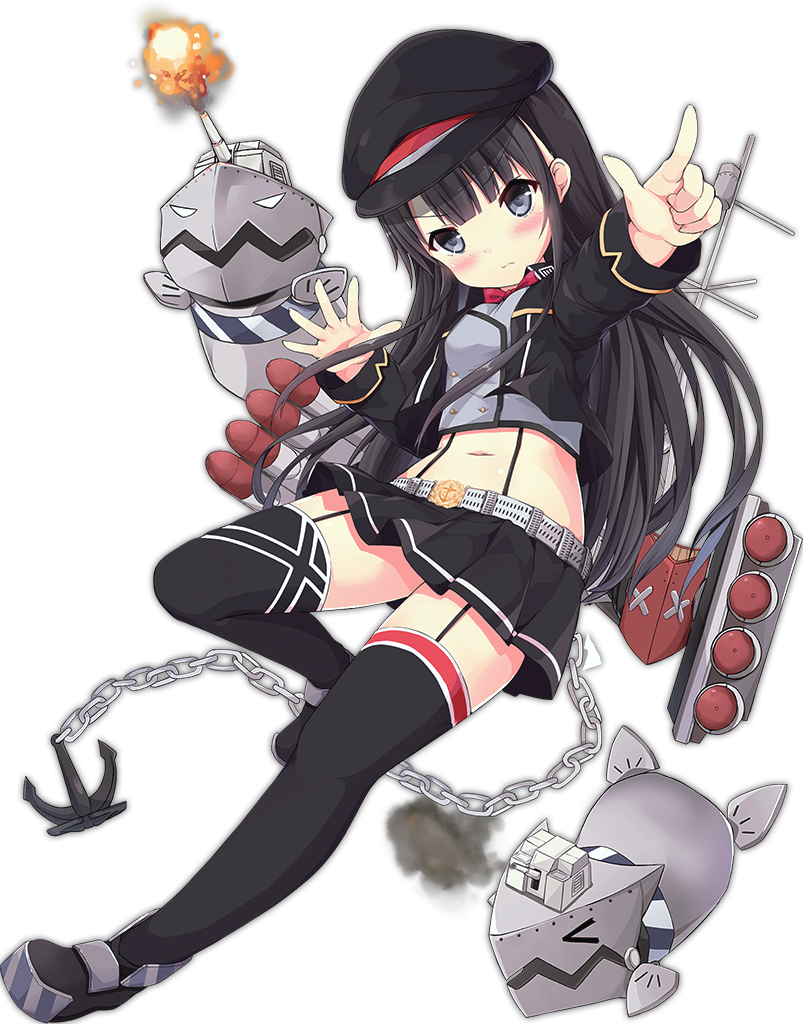person: (63, 3, 787, 906)
